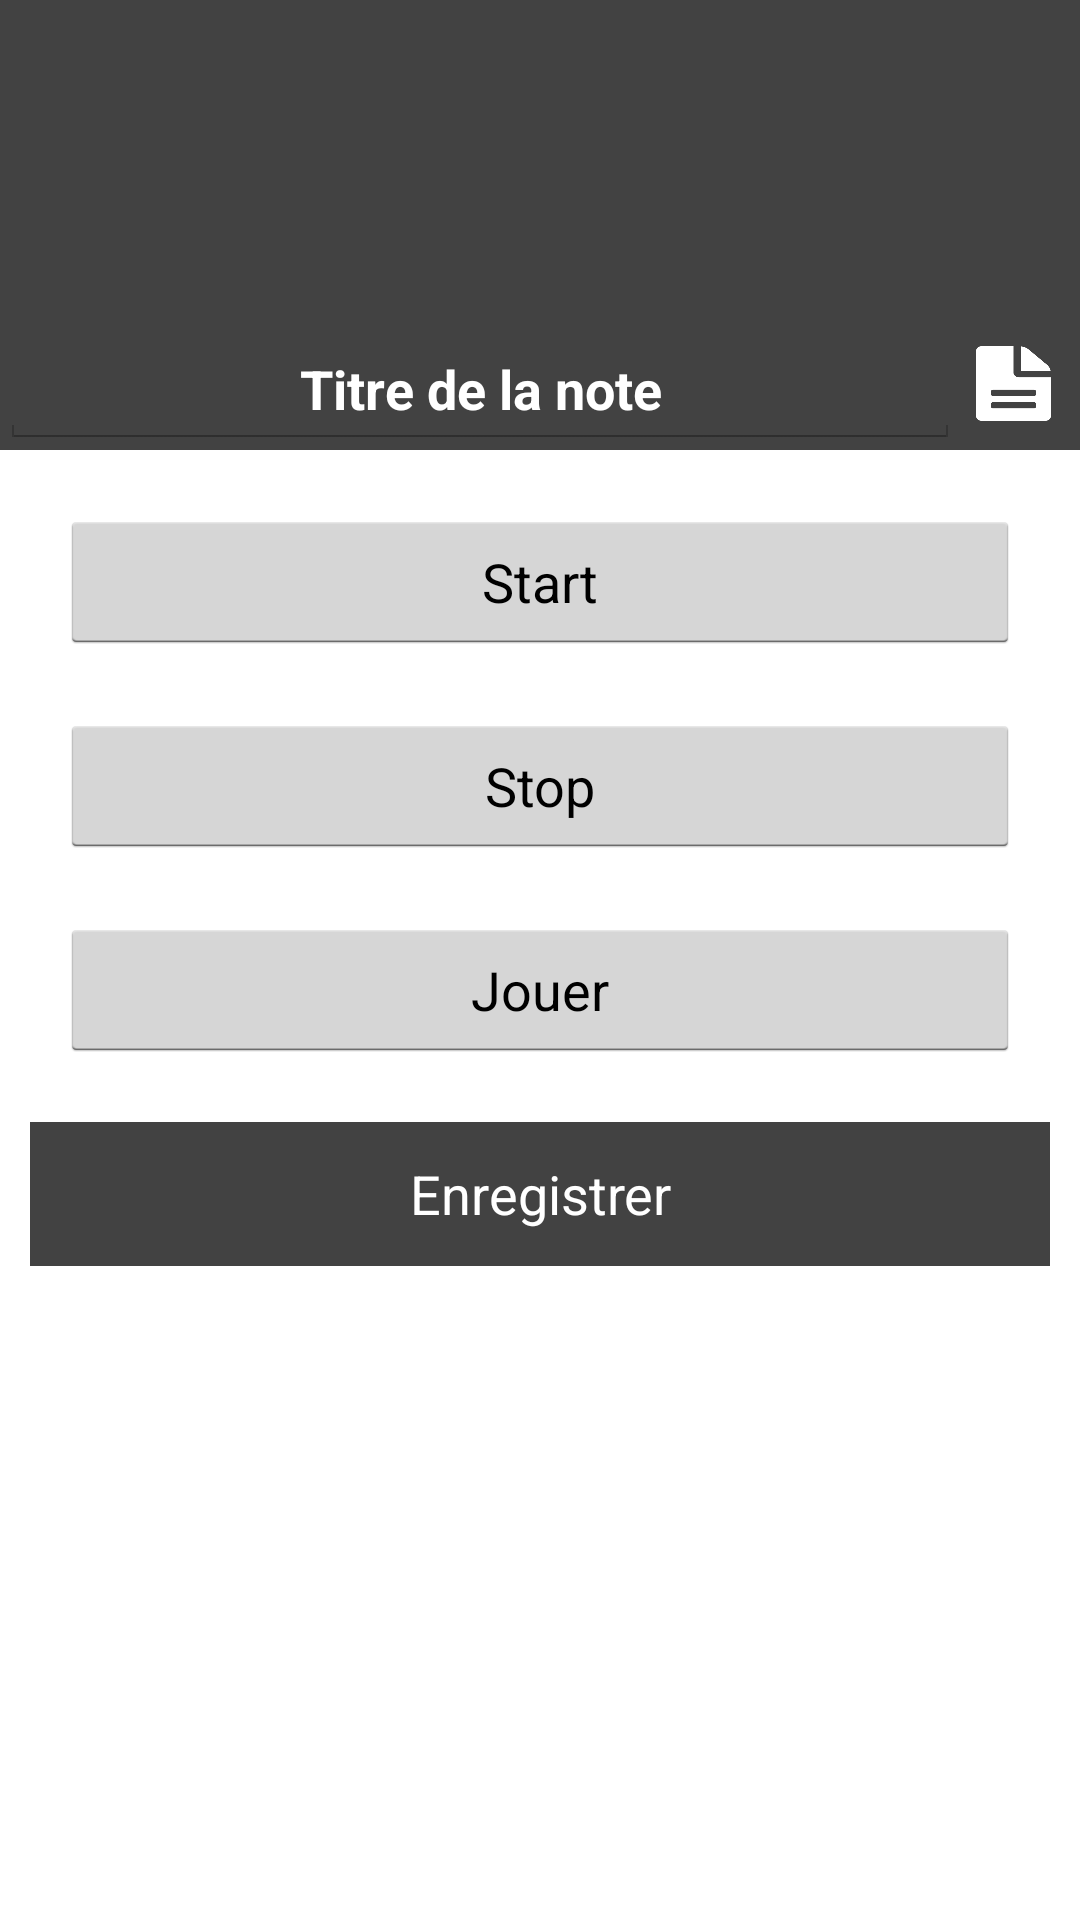

Point at icon controls on the screen. Image size 1080 × 1920, points as (x,y).
text: (1013,383)
